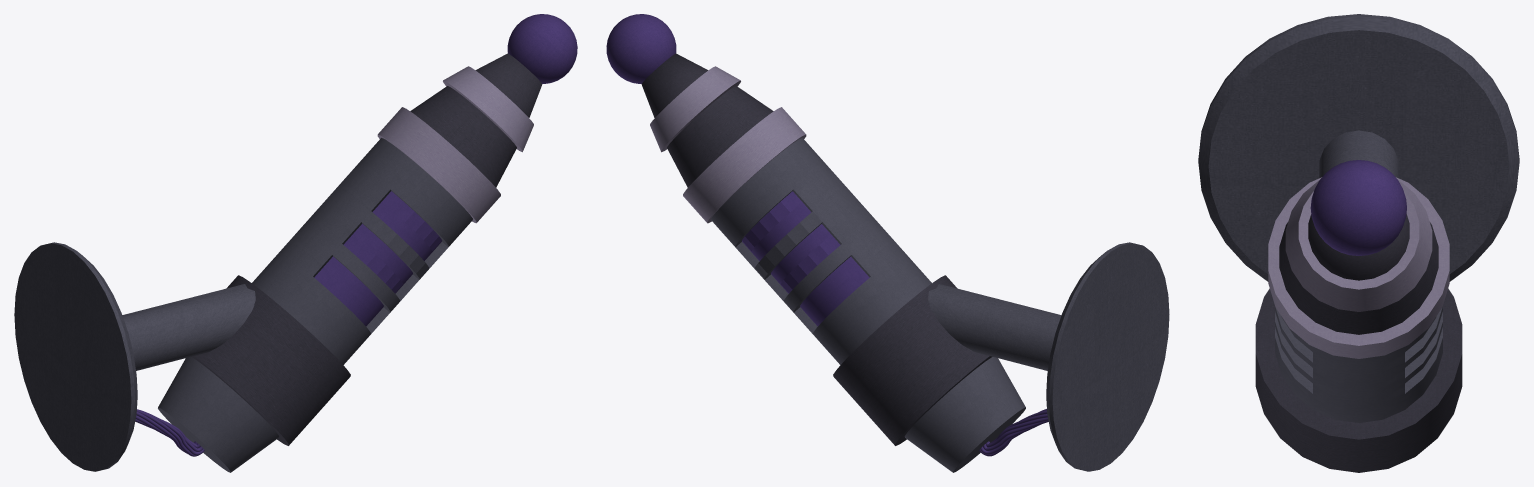
The model's file is Laser_Ceiling_75Percent.FBX.
3 views of the same model, side by side, from view 1: azimuth 30°, elevation 25°; view 2: azimuth 150°, elevation 25°; view 3: azimuth 270°, elevation 25° (orthographic). The views are drawn at different scales.
Parts seen in each view (by area): view 1: Main Cylinder, Cylinder002, Main Emitter, Brace, Cylinder003, End Piece, Cable; view 2: Main Cylinder, Cylinder002, Main Emitter, Brace, Cylinder003, End Piece, Cable; view 3: Cylinder002, Main Emitter, Brace, Main Cylinder, End Piece, Cylinder003.
Boxes of the visible parts, x1,y1,x2,y2 form: Main Cylinder: (158, 138, 472, 472); Cylinder002: (14, 242, 137, 471); Main Emitter: (377, 53, 542, 223); Brace: (191, 275, 350, 445); Cylinder003: (122, 284, 255, 370); End Piece: (507, 14, 577, 83); Cable: (135, 409, 204, 456); Main Cylinder: (711, 138, 1025, 472); Cylinder002: (1046, 242, 1169, 471); Main Emitter: (641, 53, 806, 223); Brace: (833, 275, 992, 445); Cylinder003: (928, 284, 1061, 370); End Piece: (606, 14, 676, 83); Cable: (979, 409, 1048, 456); Cylinder002: (1198, 14, 1519, 281); Main Emitter: (1268, 177, 1449, 358); Brace: (1255, 288, 1462, 472); Main Cylinder: (1275, 306, 1442, 422); End Piece: (1310, 160, 1406, 255); Cylinder003: (1319, 130, 1398, 178).
Bounding box in the file's own units: 58.49 × 41.59 × 23.7.
5 materials, 4 textured.
